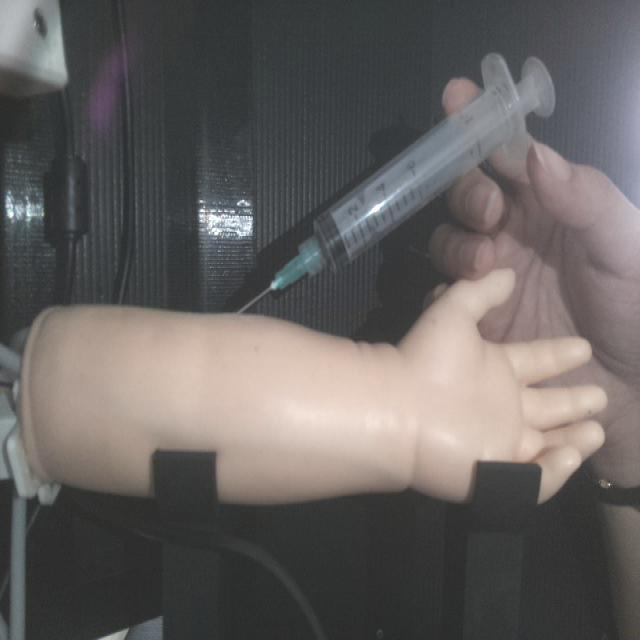Above 30 degrees: (230, 48, 557, 316)
